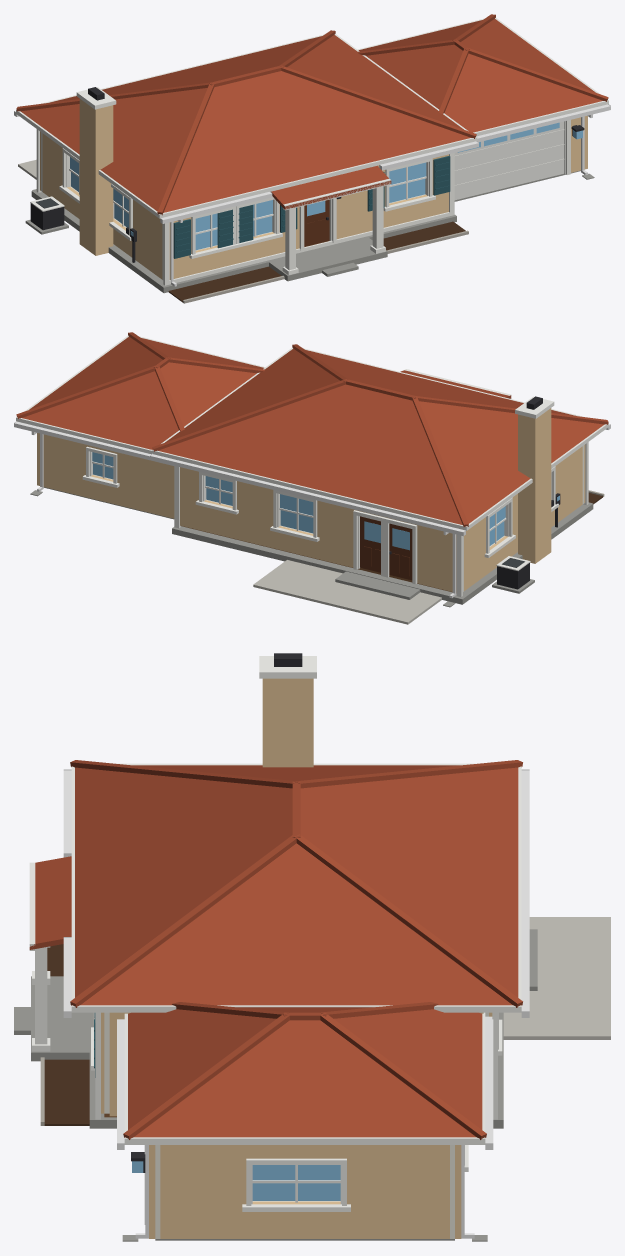
File: Ranch.glb
3 renders of one model, top to bottom at view 1: azimuth 30°, elevation 25°; view 2: azimuth 150°, elevation 25°; view 3: azimuth 270°, elevation 25°, orthographic. The views are drawn at different scales.
Parts seen in each view (by area): view 1: Ranch_Roof, Ranch_WallsOut, Ranch_Trim, Ranch_Foundation, Ranch_GarageDoor1, Ranch_Gutter, Ranch_Shutter, Ranch_Mulch, Ranch_Glass, Ranch_Metal, Ranch_Door1, Ranch_Edging (+2 smaller); view 2: Ranch_Roof, Ranch_WallsOut, Ranch_Trim, Ranch_Foundation, Ranch_Patio, Ranch_Gutter, Ranch_Glass, Ranch_Door2, Ranch_Metal, Ranch_Door3, Ranch_Sash4; view 3: Ranch_Roof, Ranch_WallsOut, Ranch_Trim, Ranch_Patio, Ranch_Gutter, Ranch_Foundation, Ranch_Mulch, Ranch_WallsIn, Ranch_Sash9, Ranch_Glass.
Part boxes in pixels (x1,y1,x2,y2): Ranch_Roof: (16,14,608,215); Ranch_WallsOut: (40,99,587,279); Ranch_Trim: (16,18,608,285); Ranch_Foundation: (25,170,594,293); Ranch_GarageDoor1: (454,121,564,200); Ranch_Gutter: (14,104,610,286); Ranch_Shutter: (173,156,450,258); Ranch_Mulch: (168,221,465,302); Ranch_Glass: (70,130,582,236); Ranch_Metal: (30,87,584,262); Ranch_Door1: (304,199,329,246); Ranch_Edging: (183,230,468,303); Ranch_Roof: (16,332,608,526); Ranch_WallsOut: (37,408,585,592); Ranch_Trim: (16,335,608,596); Ranch_Foundation: (30,487,593,607); Ranch_Patio: (253,560,441,624); Ranch_Gutter: (14,421,610,598); Ranch_Glass: (92,452,559,528); Ranch_Door2: (389,523,412,580); Ranch_Metal: (497,396,560,589); Ranch_Door3: (360,516,380,572); Ranch_Sash4: (280,510,313,533); Ranch_Roof: (29,760,522,1139); Ranch_WallsOut: (101,678,492,1238); Ranch_Trim: (29,656,521,1224); Ranch_Patio: (503,917,610,1039); Ranch_Gutter: (63,769,529,1238); Ranch_Foundation: (14,929,537,1241); Ranch_Mulch: (44,944,89,1125); Ranch_WallsIn: (104,1012,488,1238); Ranch_Sash9: (252,1183,340,1200); Ranch_Glass: (132,1161,340,1180).
Size of the model in its own units: 78.19 by 23.96 by 52.8.
